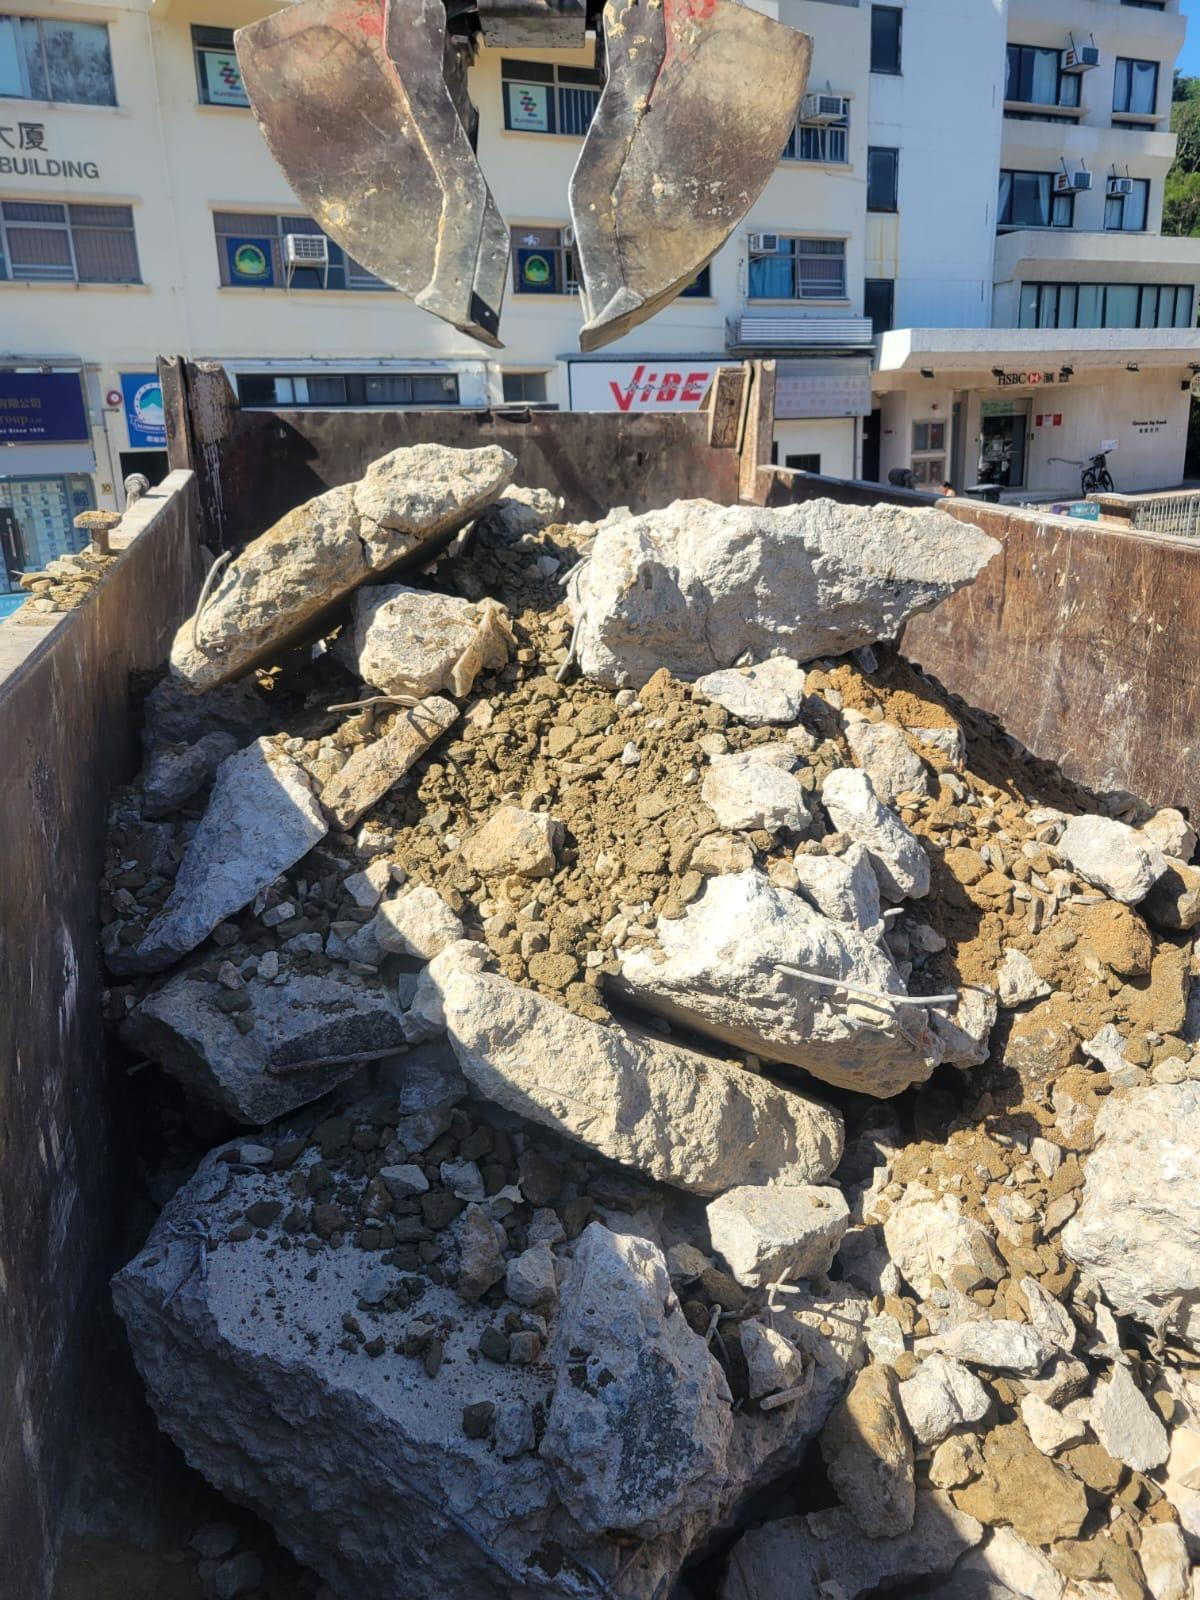dirt: (89, 483, 1197, 1597)
stone: (419, 943, 846, 1197), (600, 864, 989, 1098), (167, 438, 518, 693), (564, 493, 1004, 690), (536, 1218, 736, 1542), (102, 732, 330, 974), (118, 944, 408, 1125), (703, 1180, 850, 1289)
